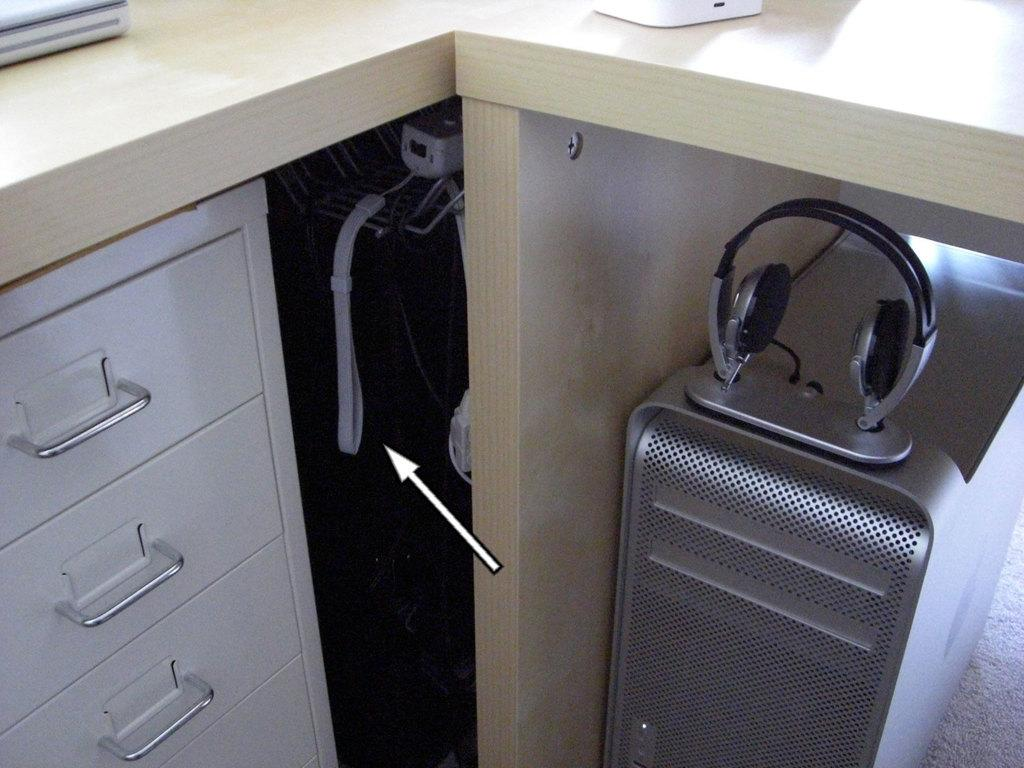cabinet_door: (0, 266, 341, 476), (0, 442, 332, 623), (0, 587, 311, 751)
handle: (83, 673, 221, 765), (4, 376, 158, 454), (42, 560, 200, 630)
